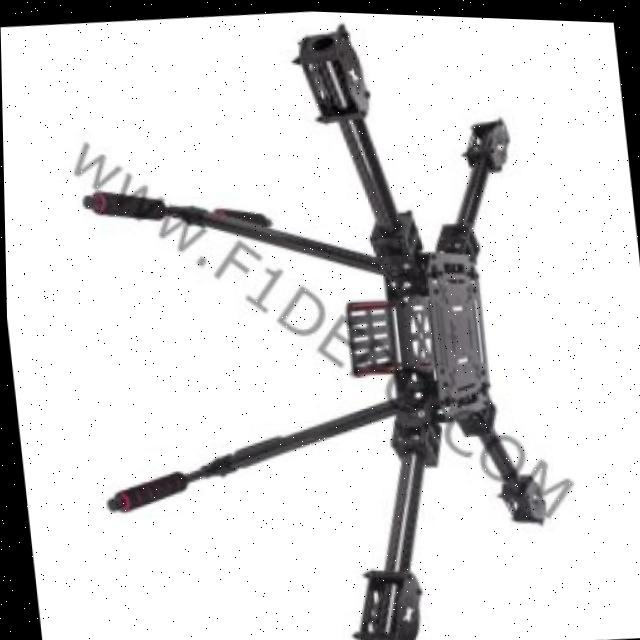drones: (34, 1, 592, 640)
